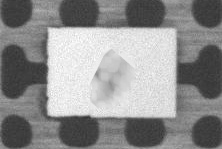DIE_INK: (89, 50, 134, 103)
